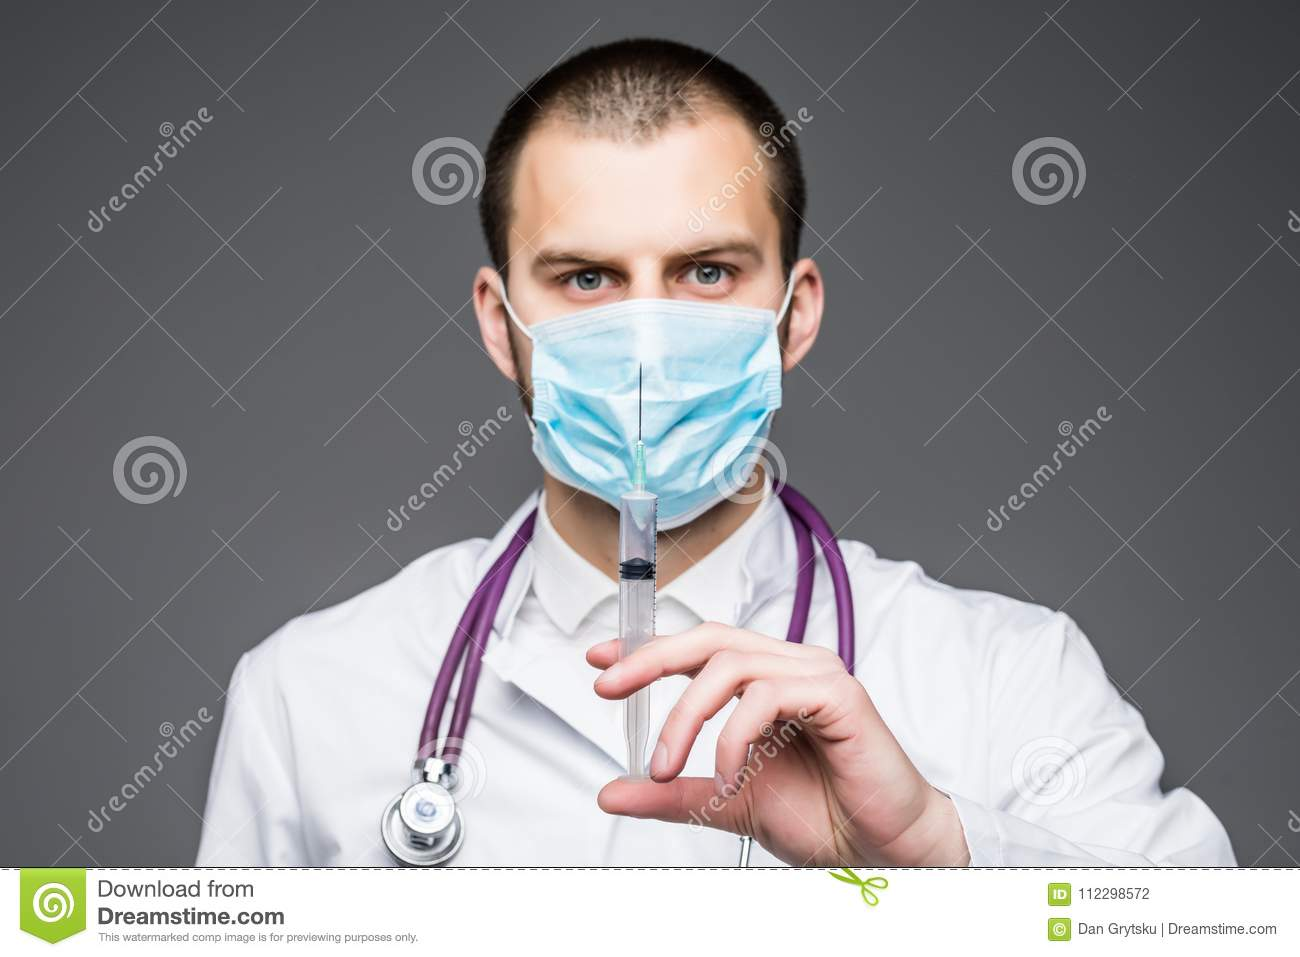mask: (517, 308, 797, 519)
